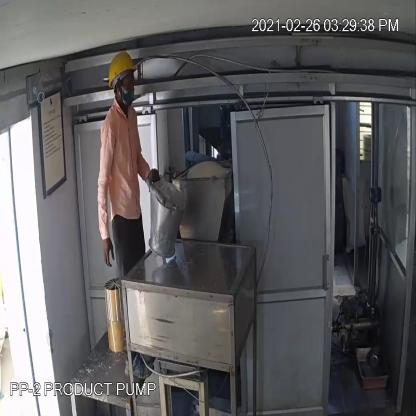helmet: (106, 51, 138, 88)
